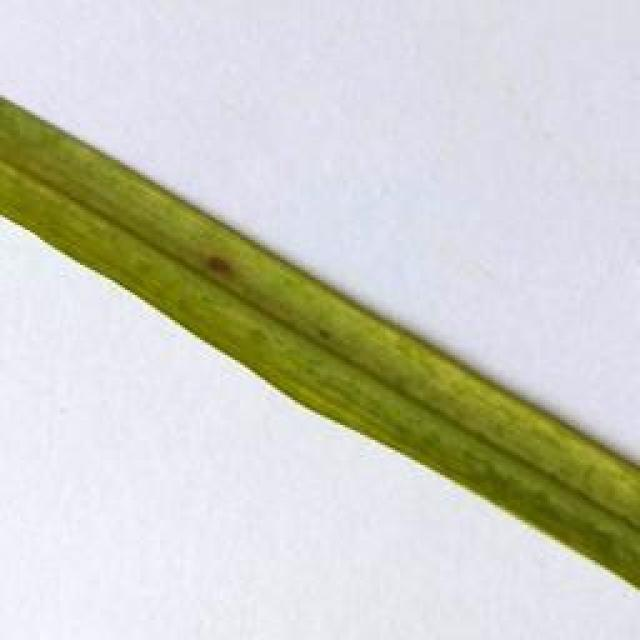Brown_Spot: (195, 250, 250, 286)
